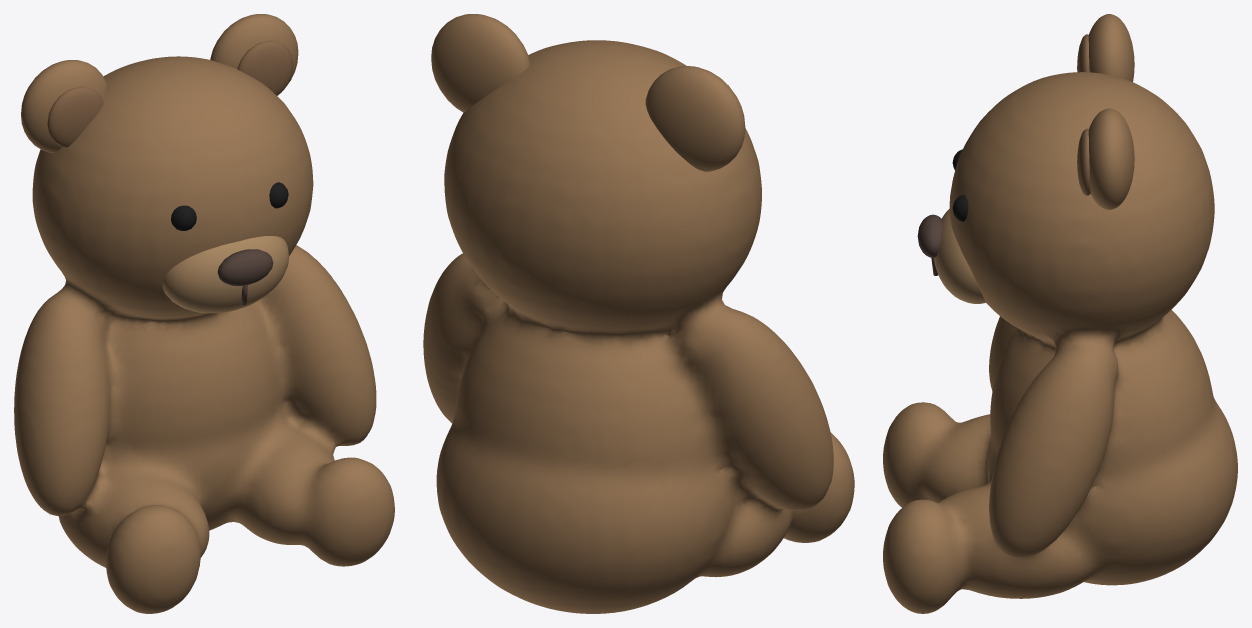
File: teddy_bear.glb
3 views of the same model, side by side, from view 1: azimuth 30°, elevation 25°; view 2: azimuth 150°, elevation 25°; view 3: azimuth 270°, elevation 25° (orthographic). The views are drawn at different scales.
Parts seen in each view (by area): view 1: TeddyBear; view 2: TeddyBear; view 3: TeddyBear.
Part boxes in pixels (x1,y1,x2,y2): TeddyBear: (14, 14, 394, 613); TeddyBear: (423, 14, 854, 613); TeddyBear: (883, 14, 1237, 613).
Bounding box in the file's own units: 0.2414 × 0.328 × 0.2096.
